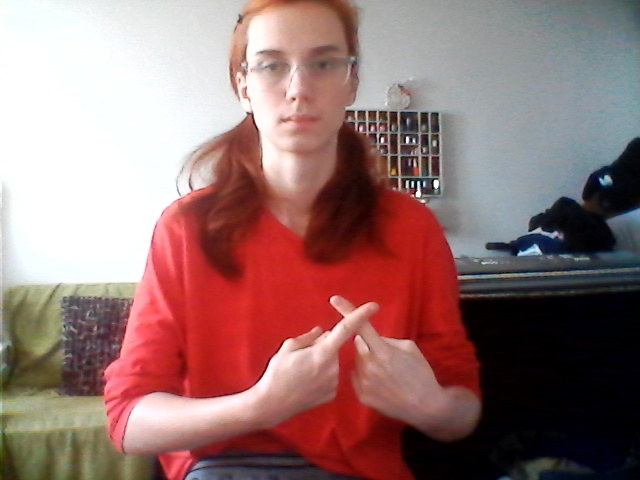x: (256, 287, 445, 439)
